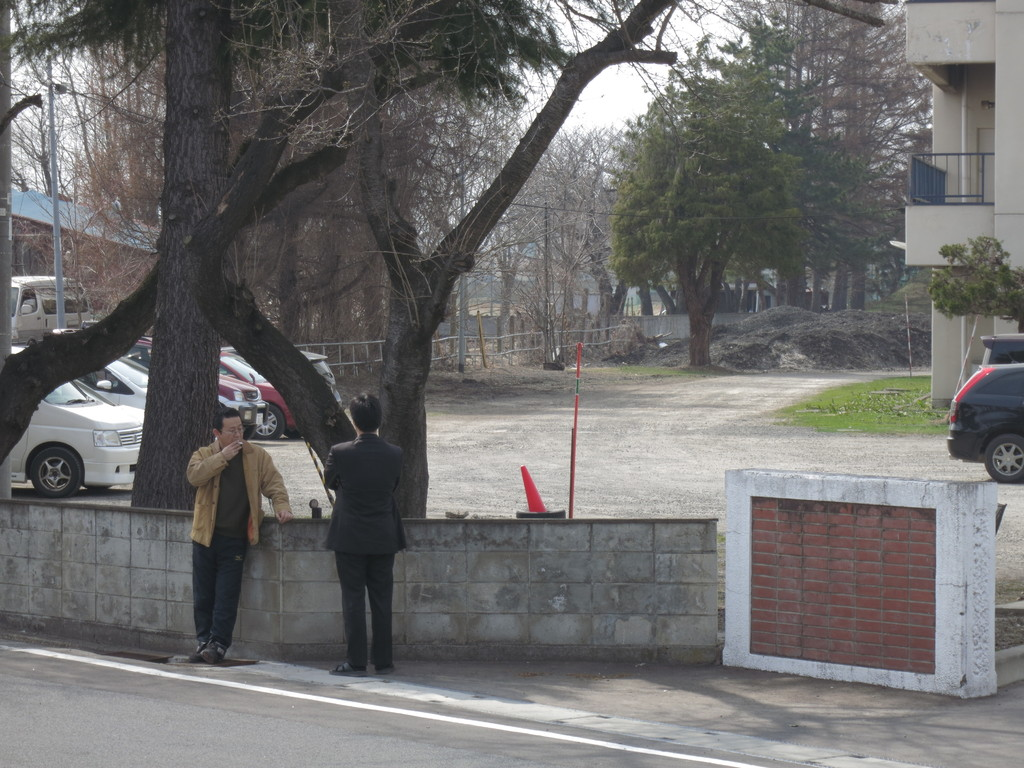Car: (944, 339, 1023, 484)
